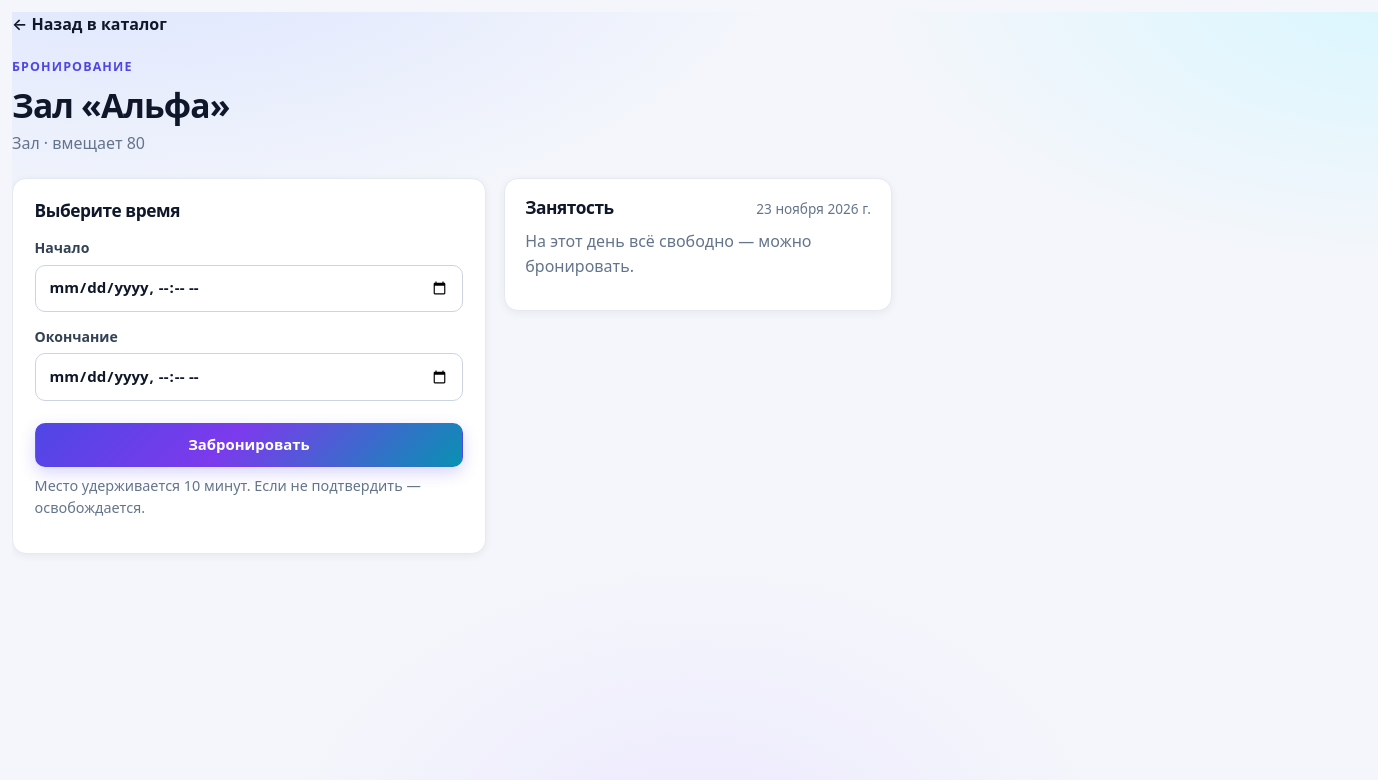
Book › показывает ошибку сервера при бронировании
This screenshot has width=1378, height=780.
Expected: the heading "Зал «Альфа»" is shown, left=12, top=86, right=230, bottom=125
Type "2030-01-15T10:00" into the field labelled "Начало" at (249, 288), box left=35, top=264, right=463, bottom=312
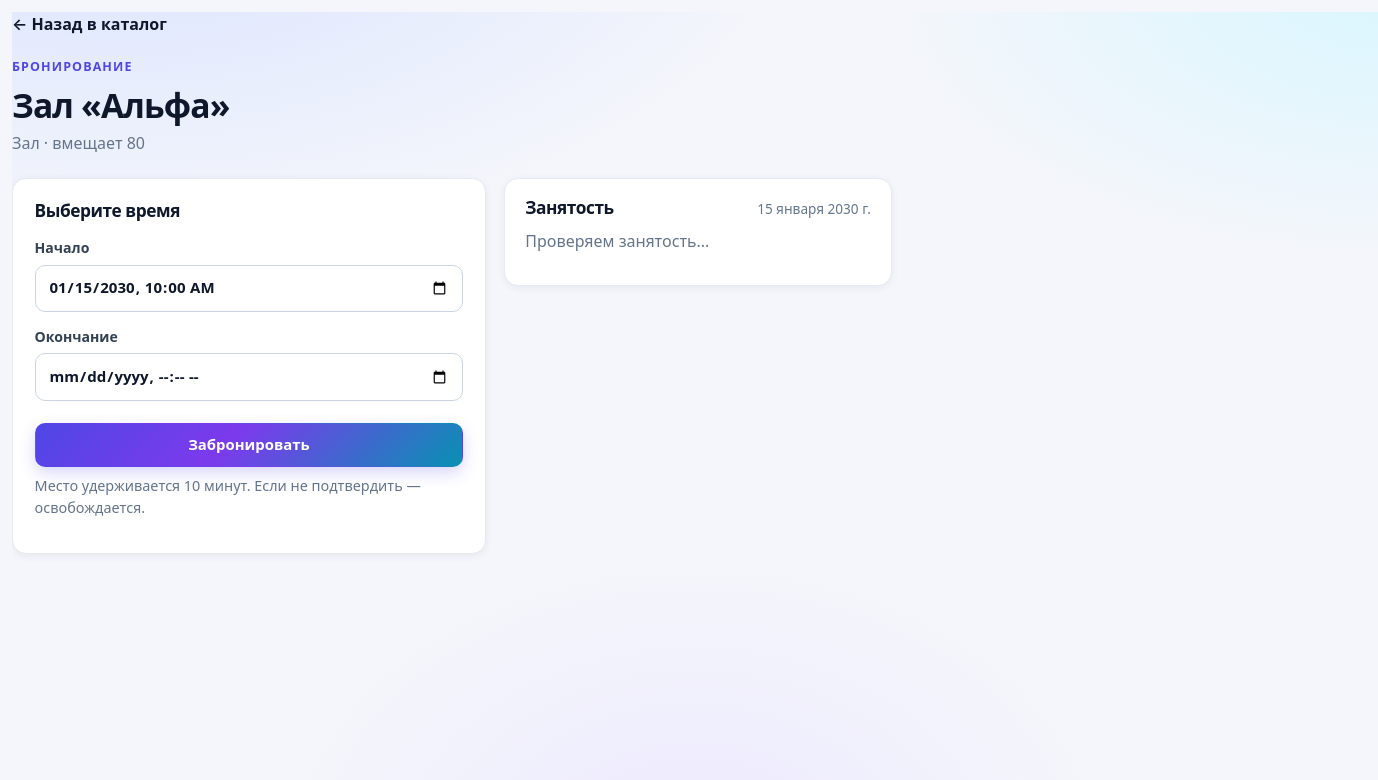
Type "2030-01-15T12:00" into the field labelled "Окончание" at (249, 377), box left=35, top=354, right=463, bottom=401
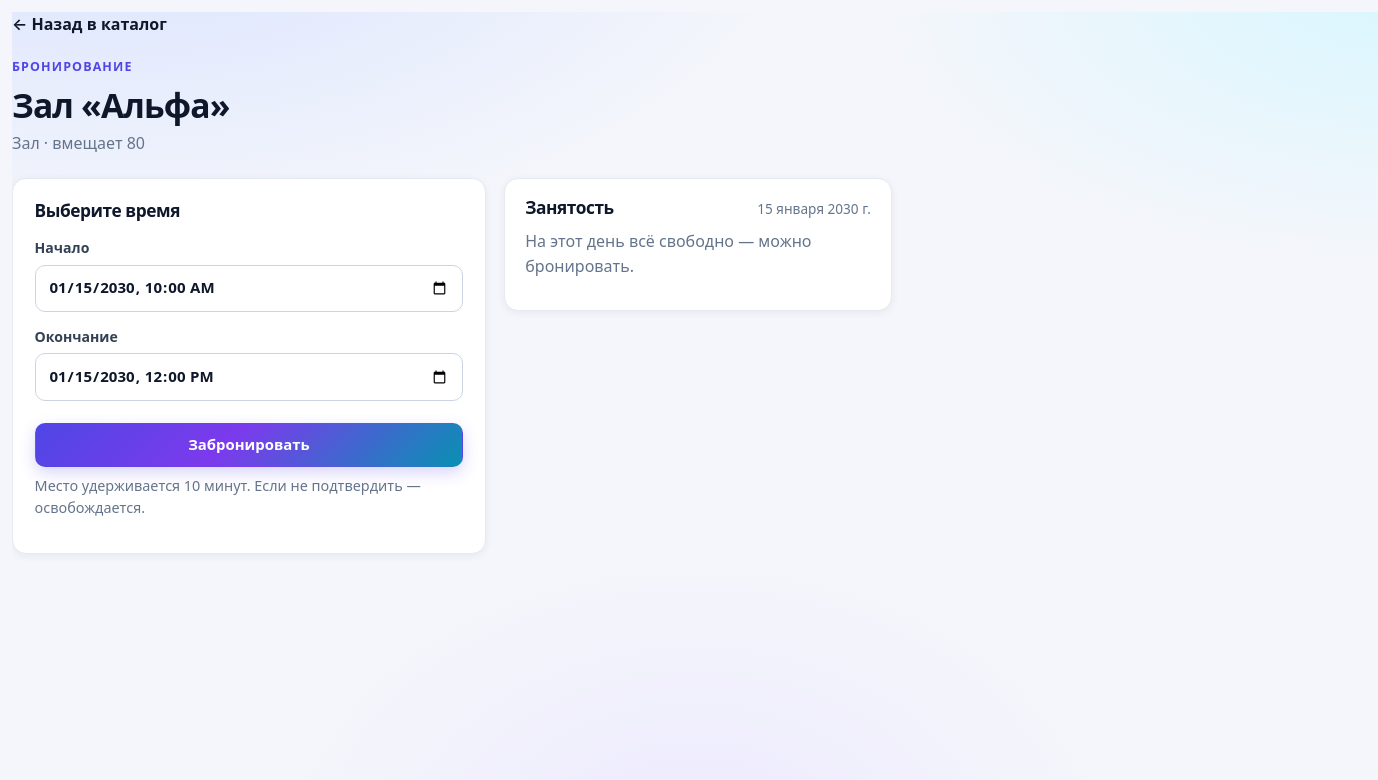
Click the button "Забронировать" at (249, 445), box left=35, top=423, right=463, bottom=467
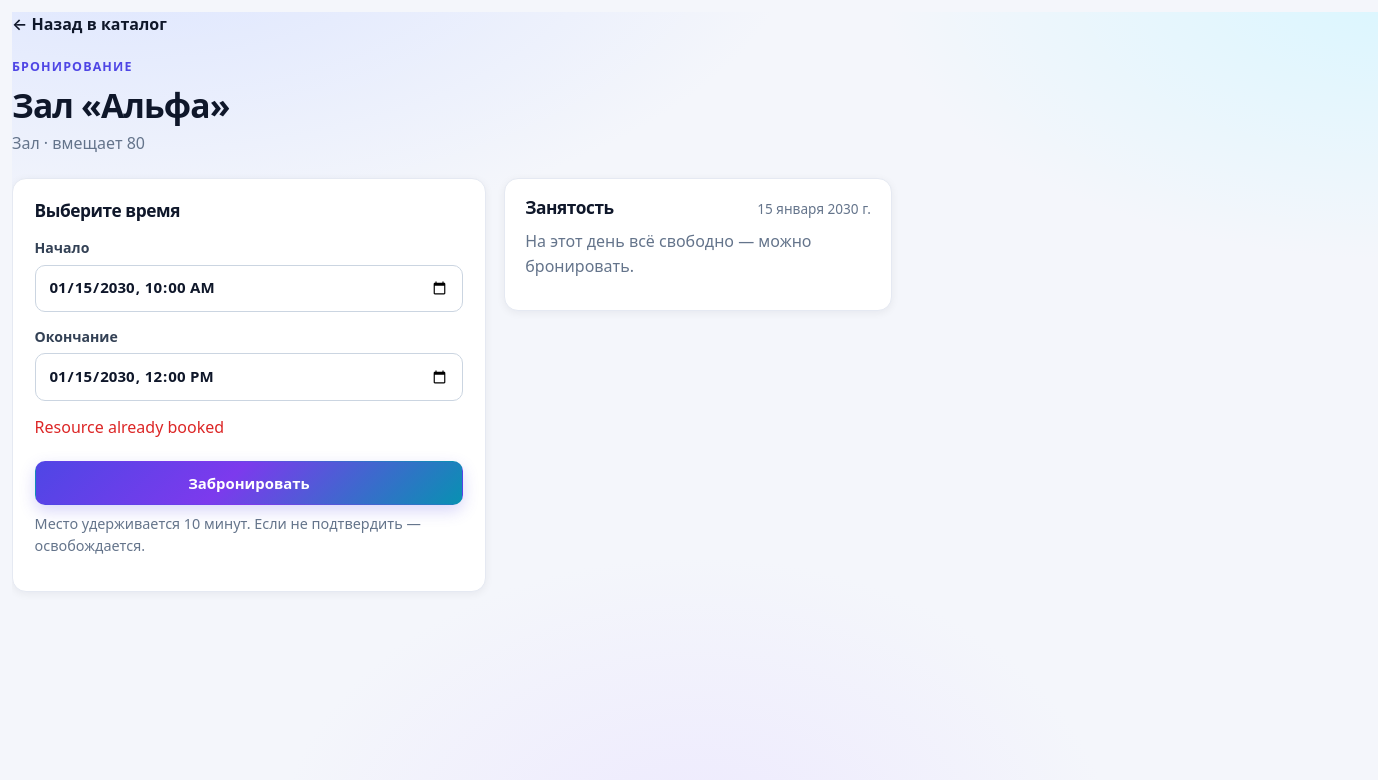
Now the text "Resource already booked" is shown, box left=35, top=416, right=224, bottom=438
